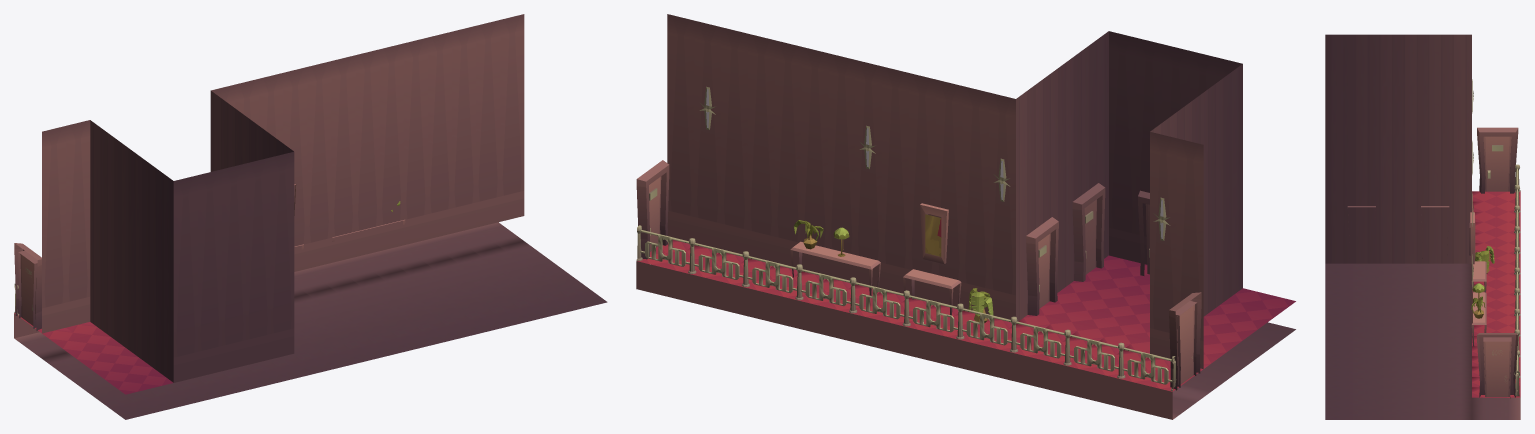
Rendered from SM_HotelRoom-D.fbx.
3 views of the same model, side by side, from view 1: azimuth 30°, elevation 25°; view 2: azimuth 150°, elevation 25°; view 3: azimuth 270°, elevation 25° (orthographic). The views are drawn at different scales.
Visible parts, largest first — view 1: HotellRoom_D; view 2: HotellRoom_D; view 3: HotellRoom_D.
Part boxes in pixels (x1=…): HotellRoom_D: x1=14, y1=14, x2=607, y2=419; HotellRoom_D: x1=636, y1=14, x2=1295, y2=419; HotellRoom_D: x1=1325, y1=34, x2=1520, y2=419.
Size of the model in its own units: 800 by 2021 by 900.
